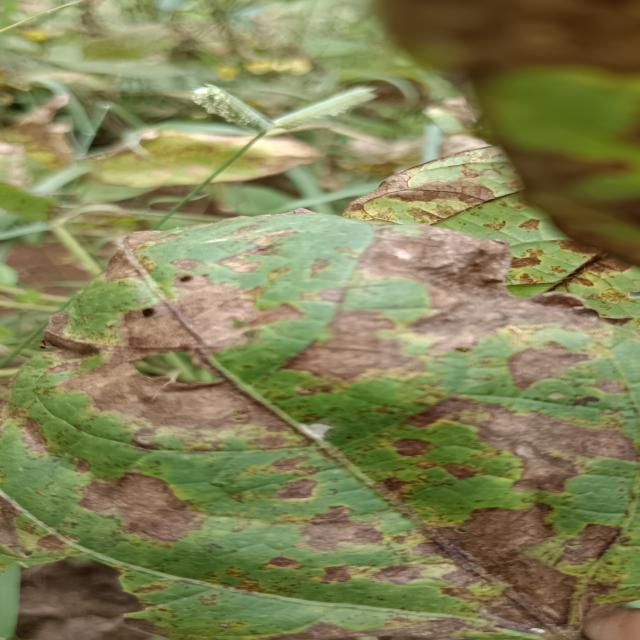Black gram_leaf spot: (0, 206, 640, 640), (380, 0, 640, 261)
